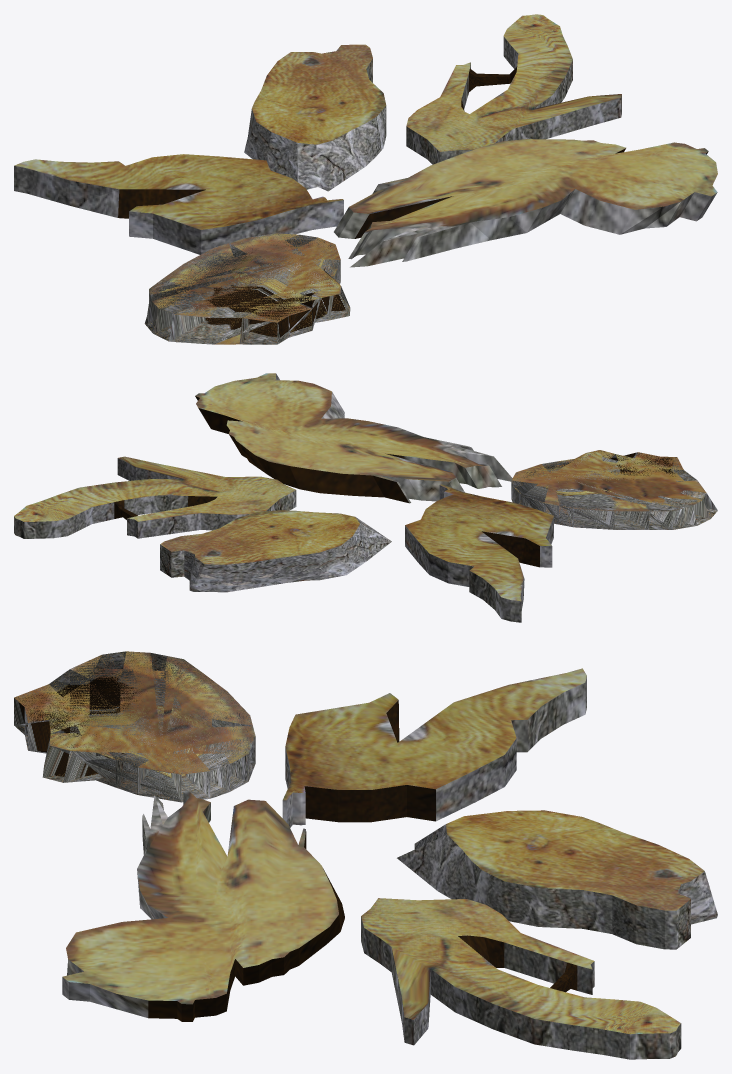
File: huzhang.FBX
The picture shows the model from 3 angles, top to bottom: view 1: azimuth 30°, elevation 25°; view 2: azimuth 150°, elevation 25°; view 3: azimuth 270°, elevation 25°; orthographic projection. The views are drawn at different scales.
Parts seen in each view (by area): view 1: Box002, Plane003, Plane001, Plane002, Plane004; view 2: Box002, Plane004, Plane002, Plane001, Plane003; view 3: Box002, Plane003, Plane004, Plane002, Plane001.
Boxes of the visible parts, <box> form: Box002: <box>334,139,717,267</box>; Plane003: <box>14,154,343,254</box>; Plane001: <box>144,233,350,344</box>; Plane002: <box>244,44,386,191</box>; Plane004: <box>406,14,621,164</box>; Box002: <box>195,373,512,503</box>; Plane004: <box>14,456,296,538</box>; Plane002: <box>160,510,391,592</box>; Plane001: <box>511,450,717,529</box>; Plane003: <box>405,484,553,622</box>; Box002: <box>62,790,344,1021</box>; Plane003: <box>282,668,586,827</box>; Plane004: <box>361,898,681,1059</box>; Plane002: <box>397,810,717,949</box>; Plane001: <box>14,651,255,802</box>.
Bounding box in the file's own units: 65.41 × 3.28 × 51.64.
Materials: 1 (1 with a texture image).
